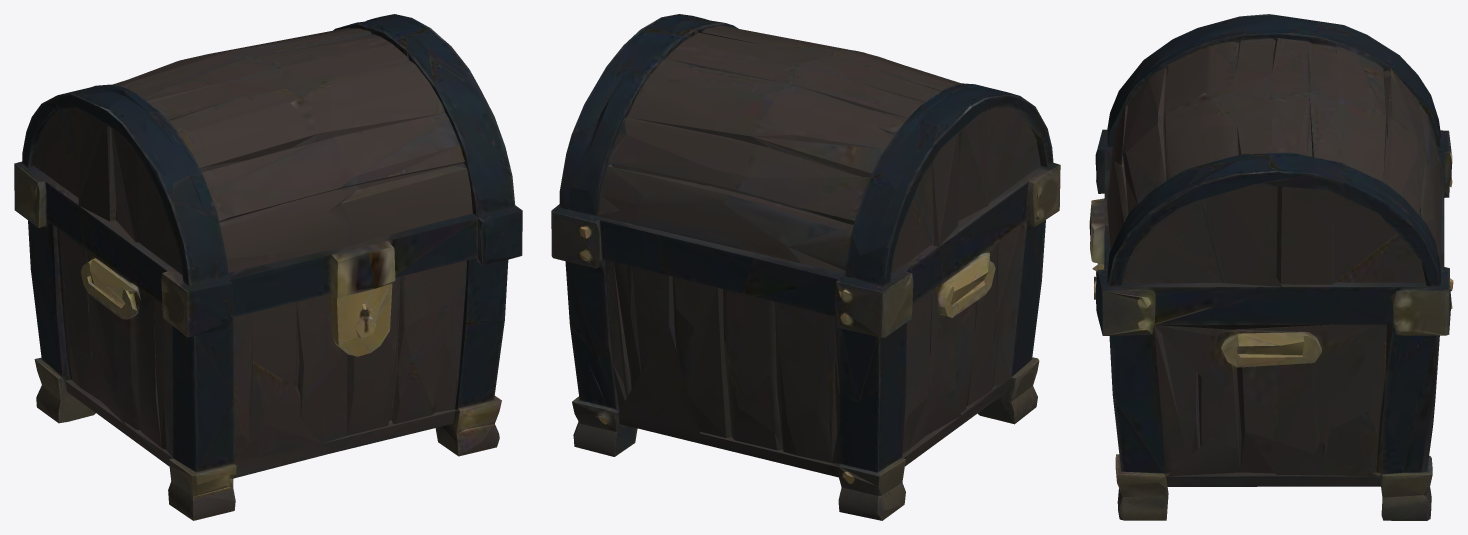
Rendered from chest_closed.glb.
3 renders of one model, left to right at view 1: azimuth 30°, elevation 25°; view 2: azimuth 150°, elevation 25°; view 3: azimuth 270°, elevation 25°, orthographic.
Bounding box in the file's own units: 1.88 × 1.9 × 1.77.
1 material, 1 textured.
